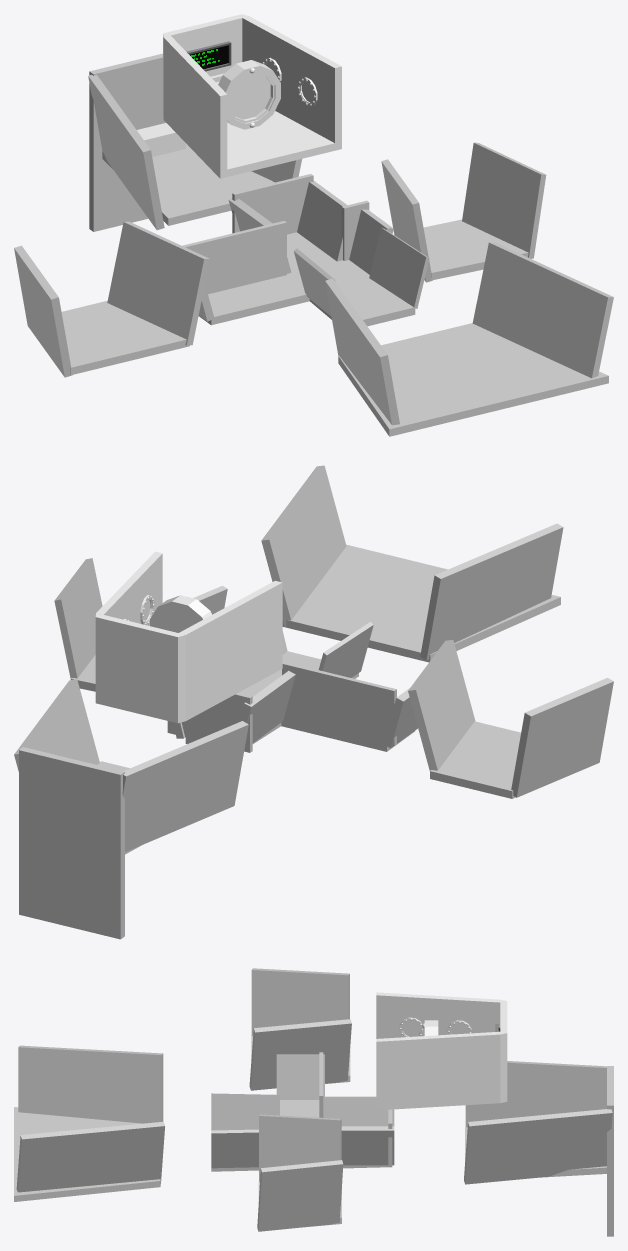
File: BetaControlRoom.gltf
3 renders of one model, top to bottom at view 1: azimuth 30°, elevation 25°; view 2: azimuth 150°, elevation 25°; view 3: azimuth 270°, elevation 25°, orthographic. The views are drawn at different scales.
Visible parts, largest first — view 1: engine room, hallways, Walls, control room, defense room, pipe room, cylindertest, screen; view 2: control room, engine room, Walls, defense room, hallways, pipe room, cylindertest; view 3: engine room, control room, Walls, hallways, defense room, pipe room, window.
Boxes of the visible parts, <box> form: engine room: <box>325,242,613,436</box>; hallways: <box>182,174,429,326</box>; Walls: <box>163,14,341,178</box>; control room: <box>88,53,301,231</box>; defense room: <box>14,221,209,377</box>; pipe room: <box>381,142,546,282</box>; cylindertest: <box>218,60,280,129</box>; screen: <box>186,41,231,71</box>; control room: <box>14,679,248,939</box>; engine room: <box>261,465,563,662</box>; Walls: <box>95,551,282,723</box>; defense room: <box>408,640,613,798</box>; hallways: <box>167,622,417,752</box>; pipe room: <box>54,558,227,691</box>; cylindertest: <box>150,595,212,632</box>; engine room: <box>14,1045,164,1201</box>; control room: <box>464,1061,613,1236</box>; Walls: <box>376,992,507,1110</box>; hallways: <box>211,1052,394,1171</box>; defense room: <box>249,968,351,1090</box>; pipe room: <box>257,1114,343,1231</box>; window: <box>399,1017,423,1037</box>.
Bounding box in the file's own units: 8.72 × 4 × 10.89.
6 materials, 1 textured.
